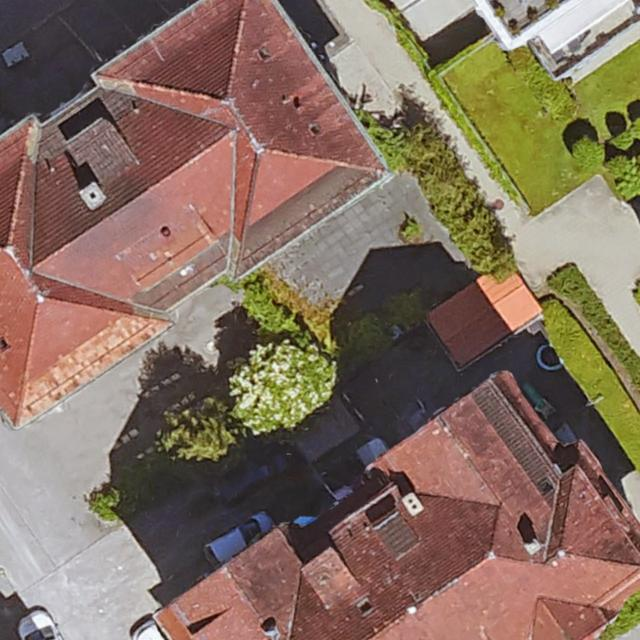tree: (231, 345, 342, 440), (163, 403, 248, 470), (383, 287, 434, 332), (86, 480, 135, 523), (347, 315, 394, 357), (571, 136, 606, 170), (617, 159, 640, 199), (400, 219, 421, 246), (613, 129, 631, 147), (631, 117, 640, 139)
